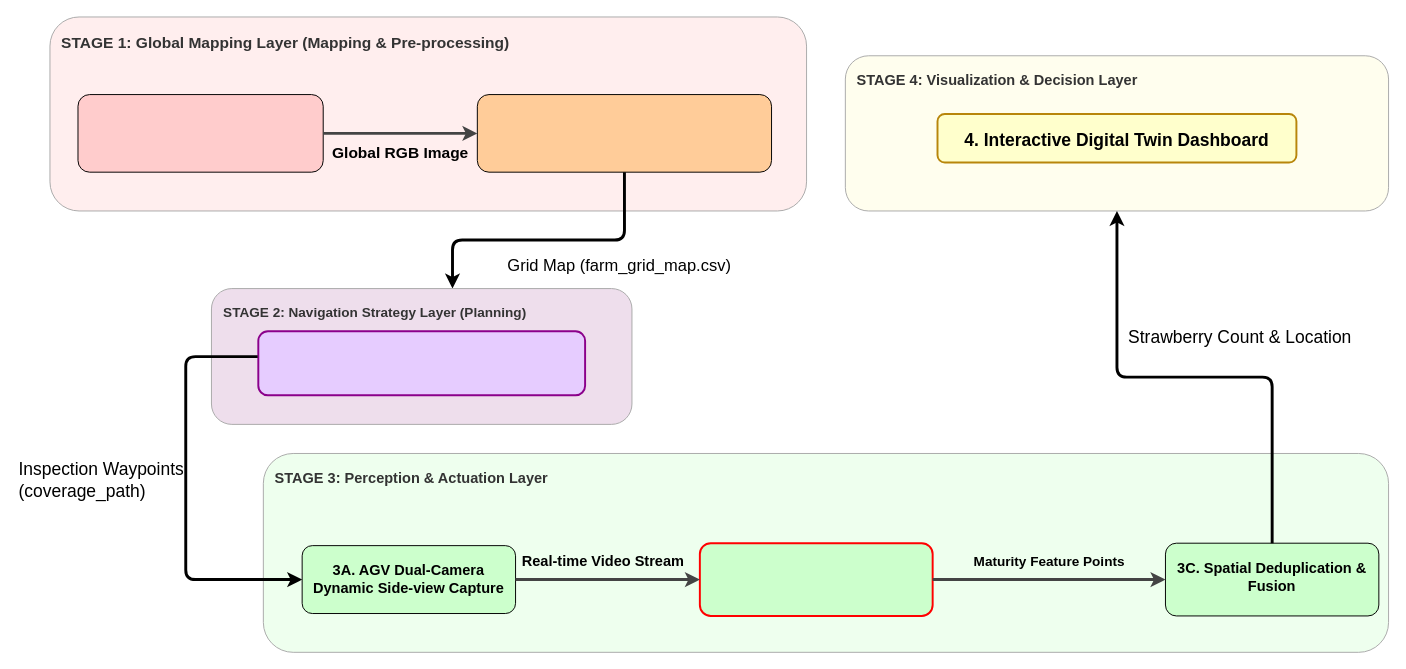
Image size: 1406x669. Some labels were removed from this diagram. The centre of each missing label's shape, as x and y in pixels:
"1A. Aerial Survey & Image Capture" goes at (200,133).
"1B. HSV Color Segmentation & Skeleton Extraction" goes at (624,133).
"2. CCPP Full Coverage Path Planning" goes at (421,363).
"3B. YOLOv11 Perception & Tracking" goes at (815,579).
